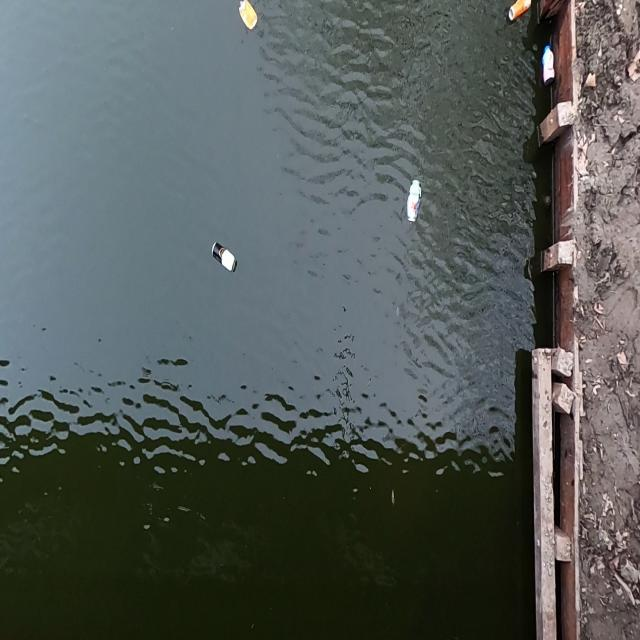Non plastique: (207, 236, 243, 278), (402, 174, 427, 234), (238, 0, 264, 35), (507, 0, 532, 32)
